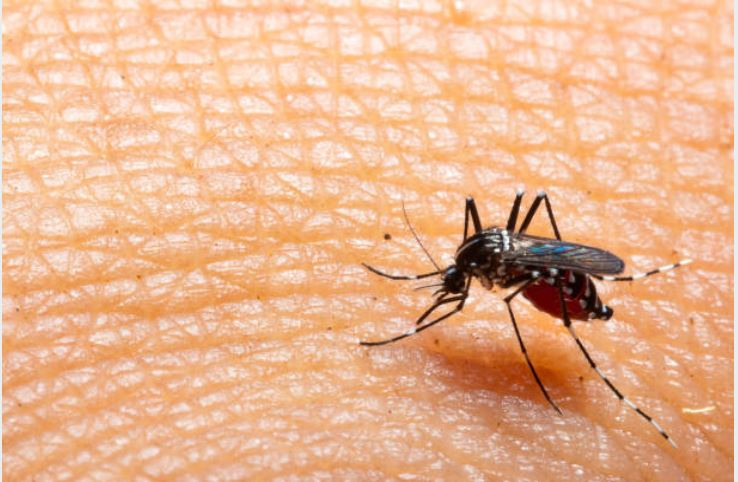dengue_mosquito: (358, 187, 689, 449)
